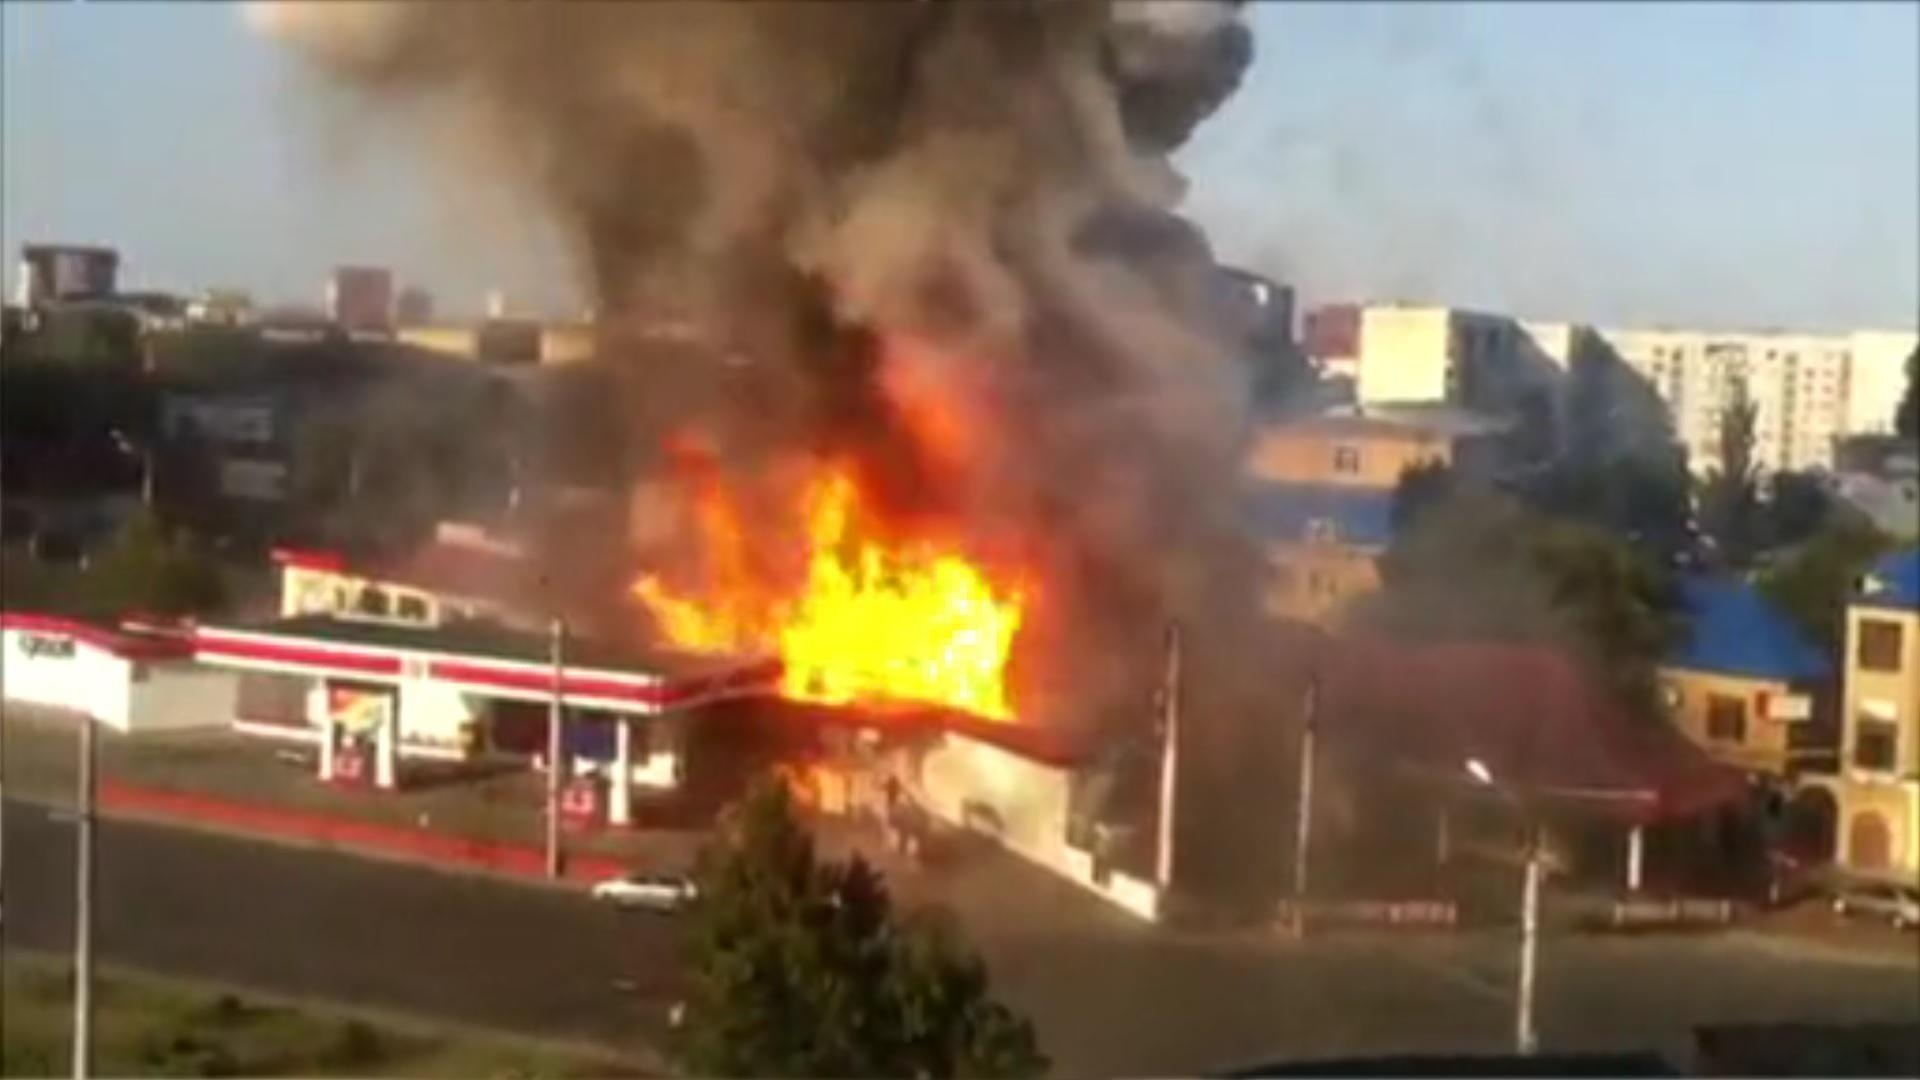fire: (640, 469, 1033, 720)
